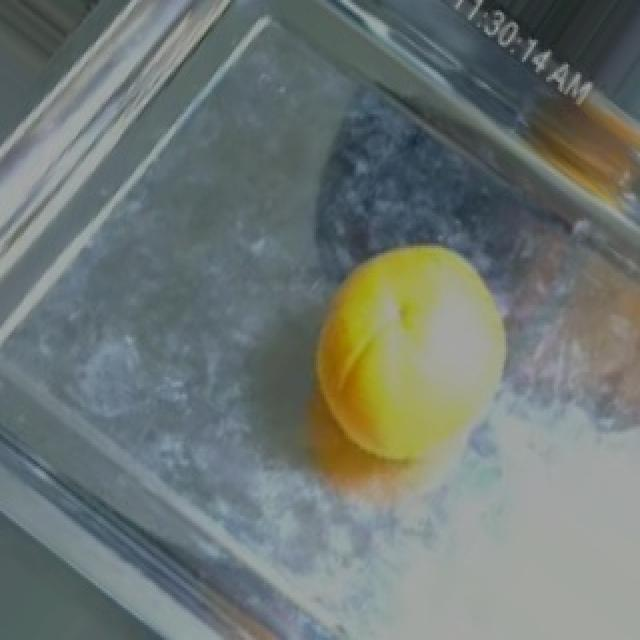Fruit: (290, 223, 532, 536)
